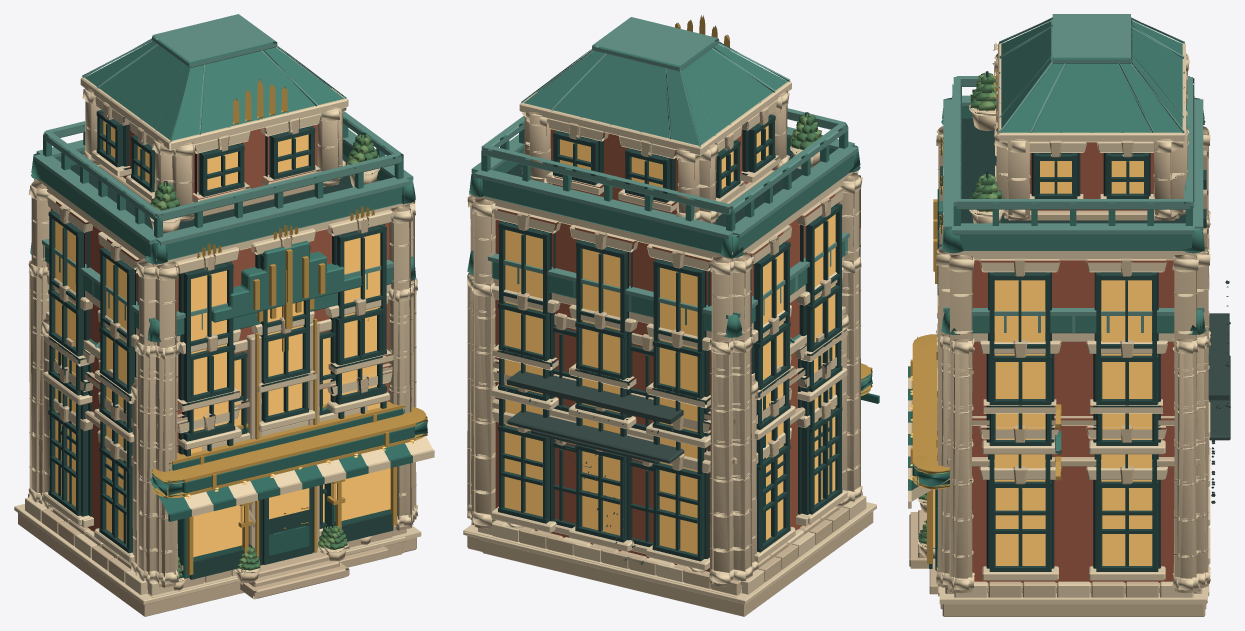
Rendered from expansion.glb.
3 renders of one model, left to right at view 1: azimuth 30°, elevation 25°; view 2: azimuth 150°, elevation 25°; view 3: azimuth 270°, elevation 25°, orthographic. The views are drawn at different scales.
Parts seen in each view (by area): view 1: expansion_villa_3_geometry, expansion_hotel_2_geometry, expansion_shop_2_geometry, expansion_junction_hub_geometry, expansion_tower_2_geometry; view 2: expansion_villa_3_geometry, expansion_shop_2_geometry, expansion_hotel_2_geometry, expansion_junction_hub_geometry, expansion_tower_2_geometry; view 3: expansion_villa_3_geometry, expansion_shop_2_geometry, expansion_hotel_2_geometry, expansion_junction_hub_geometry.
Part boxes in pixels (<box>): expansion_villa_3_geometry: <box>28,14,421,599</box>; expansion_hotel_2_geometry: <box>28,239,427,598</box>; expansion_shop_2_geometry: <box>29,240,434,589</box>; expansion_junction_hub_geometry: <box>14,311,405,616</box>; expansion_tower_2_geometry: <box>194,292,374,559</box>; expansion_villa_3_geometry: <box>463,15,862,597</box>; expansion_shop_2_geometry: <box>463,227,879,595</box>; expansion_hotel_2_geometry: <box>466,230,872,586</box>; expansion_junction_hub_geometry: <box>478,306,876,616</box>; expansion_tower_2_geometry: <box>505,313,704,572</box>; expansion_villa_3_geometry: <box>910,14,1229,616</box>; expansion_shop_2_geometry: <box>908,211,1230,616</box>; expansion_hotel_2_geometry: <box>909,188,1228,616</box>; expansion_junction_hub_geometry: <box>929,404,1209,609</box>.
Bounding box in the file's own units: 1.04 × 1.69 × 0.9616.
